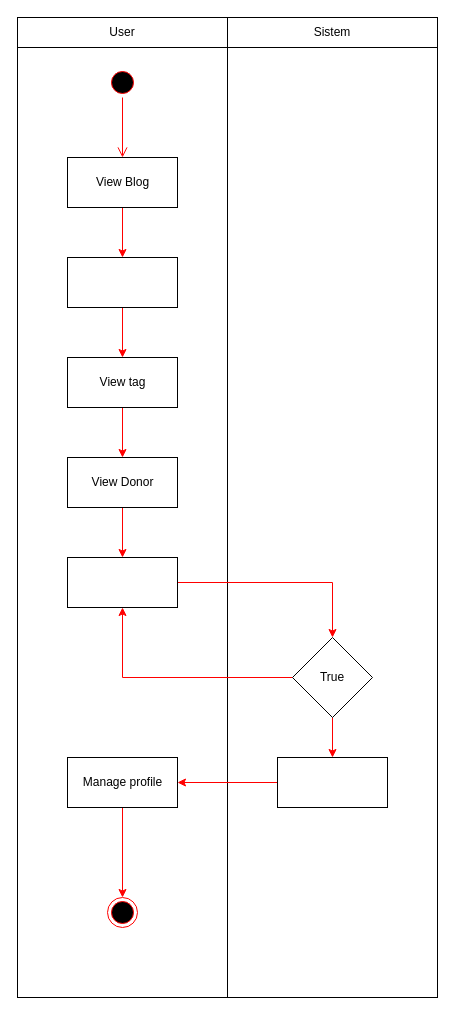
The diagram is 455 pixels wide and 1015 high, and some of its shapes have lost their labels. Each missing label, with the box of its shape:
Login: (66, 556, 178, 608)
Login Success: (276, 756, 388, 808)
View Category: (66, 256, 178, 308)
